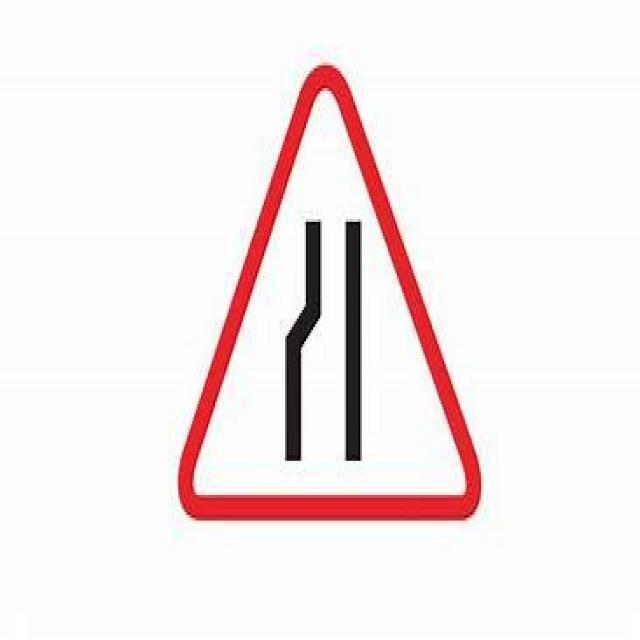narrow road ahead: (175, 65, 483, 529)
